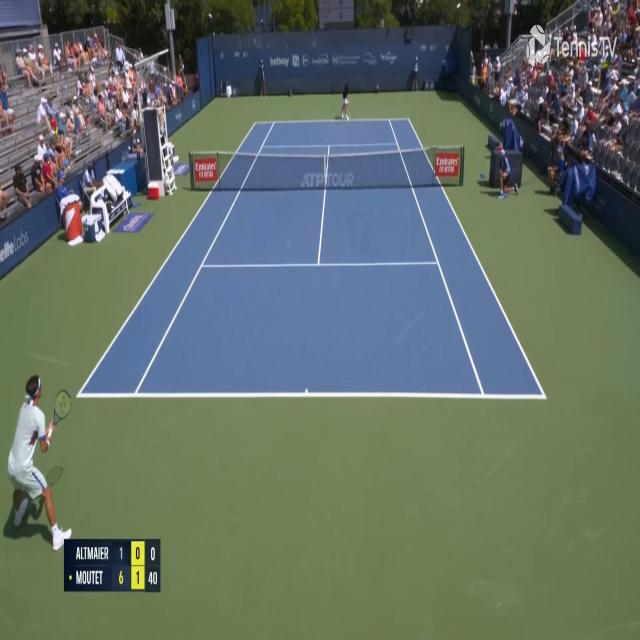tennis-player: (5, 369, 75, 551), (339, 80, 351, 121)
